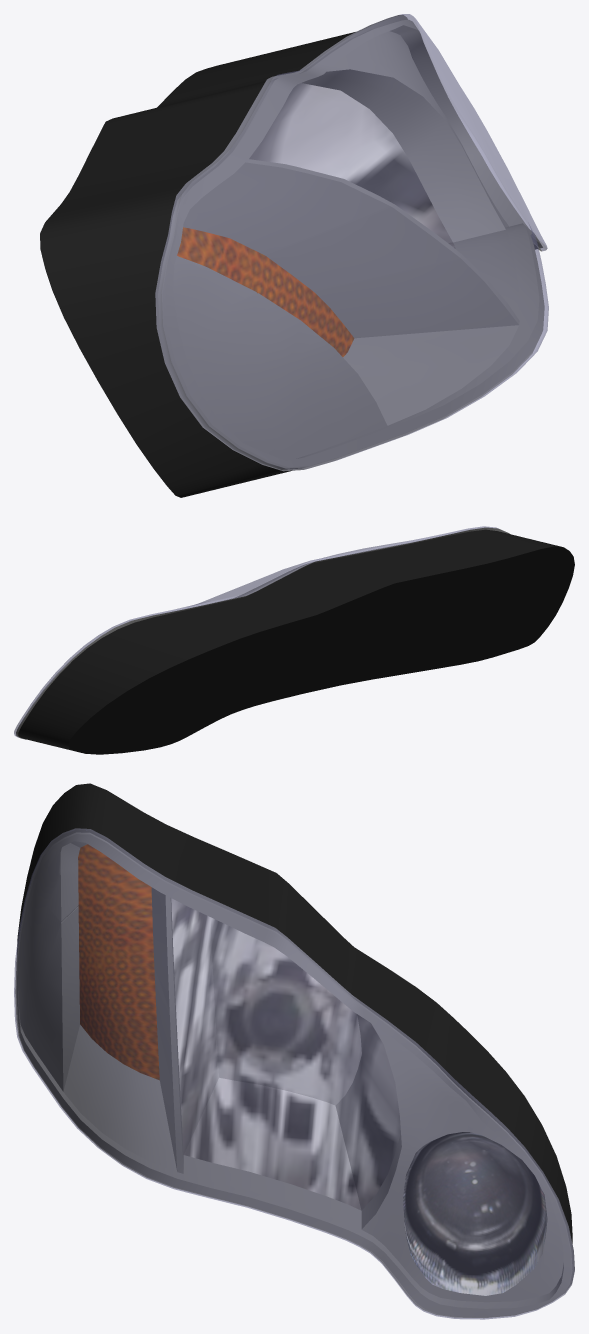
The picture shows the model from 3 angles, top to bottom: view 1: azimuth 30°, elevation 25°; view 2: azimuth 150°, elevation 25°; view 3: azimuth 270°, elevation 25°; orthographic projection. The views are drawn at different scales.
Visible parts, largest first — view 1: Y211_061B_R_Y211_061B_R_4_DTaSI, Y211_061B_R_Y211_061B_R_6_DaS, Y211_061B_R_Y211_061B_R_5_D, Y211_061B_R_Y211_061B_R_3_N, Y211_061B_R_1_N_Y211_061B_R; view 2: Y211_061B_R_Y211_061B_R_5_D, Y211_061B_R_Y211_061B_R_4_DTaSI, Y211_061B_R_Y211_061B_R_6_DaS; view 3: Y211_061B_R_Y211_061B_R_4_DTaSI, Y211_061B_R_Y211_061B_R_6_DaS, Y211_061B_R_Y211_061B_R_3_N, Y211_061B_R_Y211_061B_R_5_D, Y211_061B_R_Y211_061B_R_2_N, Y211_061B_R_1_N_Y211_061B_R.
Boxes of the visible parts, bbox=[...] form: Y211_061B_R_Y211_061B_R_4_DTaSI: bbox=[155, 14, 548, 470]; Y211_061B_R_Y211_061B_R_6_DaS: bbox=[155, 15, 544, 471]; Y211_061B_R_Y211_061B_R_5_D: bbox=[40, 32, 537, 497]; Y211_061B_R_Y211_061B_R_3_N: bbox=[249, 83, 455, 248]; Y211_061B_R_1_N_Y211_061B_R: bbox=[177, 227, 354, 356]; Y211_061B_R_Y211_061B_R_5_D: bbox=[18, 529, 574, 754]; Y211_061B_R_Y211_061B_R_4_DTaSI: bbox=[14, 526, 497, 737]; Y211_061B_R_Y211_061B_R_6_DaS: bbox=[16, 527, 510, 739]; Y211_061B_R_Y211_061B_R_4_DTaSI: bbox=[14, 828, 574, 1319]; Y211_061B_R_Y211_061B_R_6_DaS: bbox=[15, 828, 574, 1318]; Y211_061B_R_Y211_061B_R_3_N: bbox=[171, 898, 400, 1210]; Y211_061B_R_Y211_061B_R_5_D: bbox=[17, 783, 572, 1243]; Y211_061B_R_Y211_061B_R_2_N: bbox=[403, 1132, 547, 1295]; Y211_061B_R_1_N_Y211_061B_R: bbox=[78, 844, 159, 1079].
Size of the model in its own units: 56.77 by 26.14 by 48.62.
